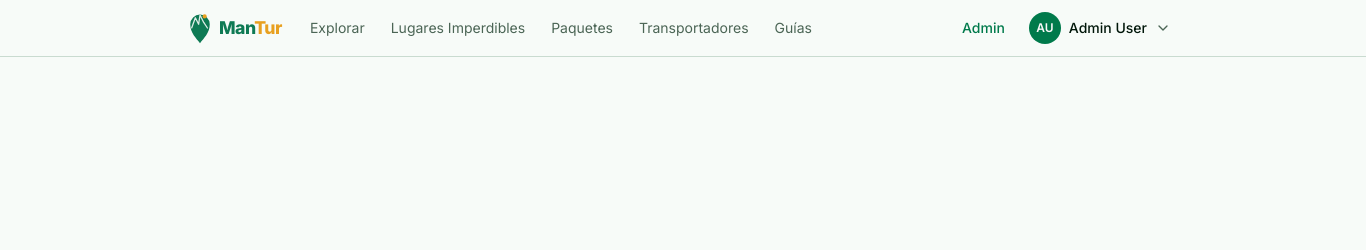
Test case: PublicNav — admin › shows a plain Admin link to /admin inline and Cerrar sesión inside the avatar menu
This screenshot has width=1366, height=250.
Click the button "AU Admin User": (1100, 28) [1021,6,1179,50]
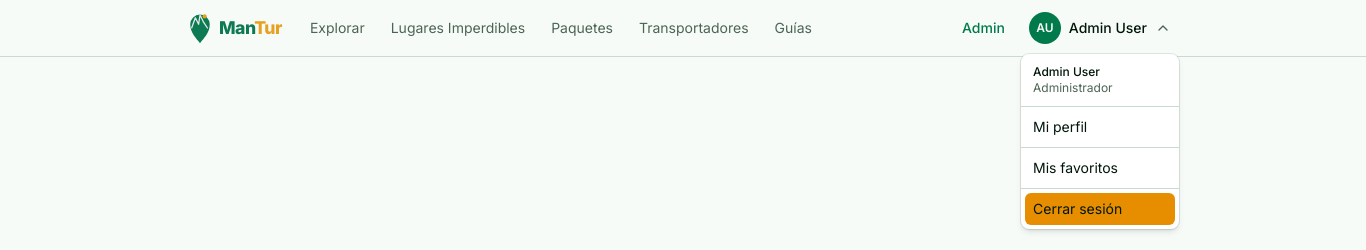
Expected: the button "Cerrar sesión" is shown, [1033,199,1167,219]
Expected: the text "Administrador" is shown, [1033,80,1113,95]
